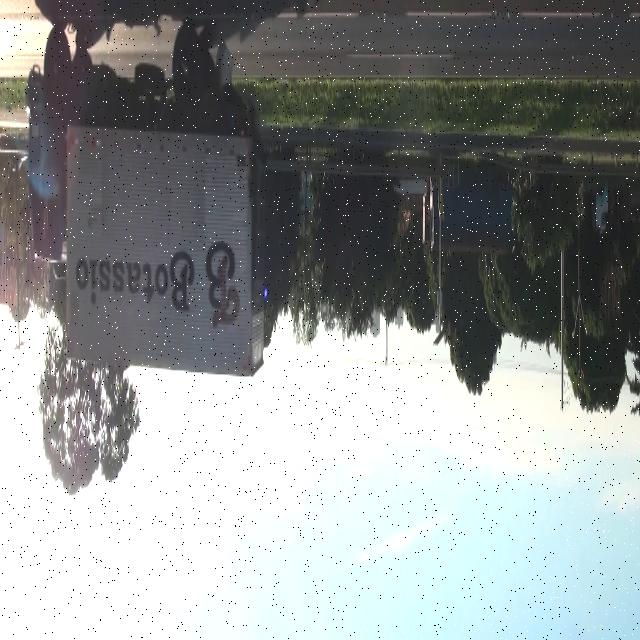-axle: (170, 24, 200, 113), (42, 27, 69, 112)
